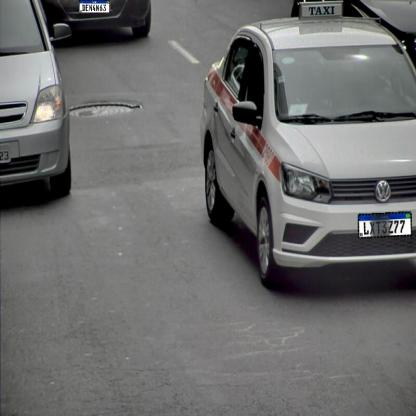PlacaM: (358, 211, 412, 238), (79, 0, 110, 13)
